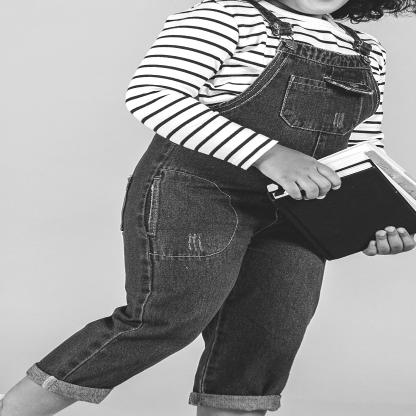dress: (30, 0, 392, 416)
